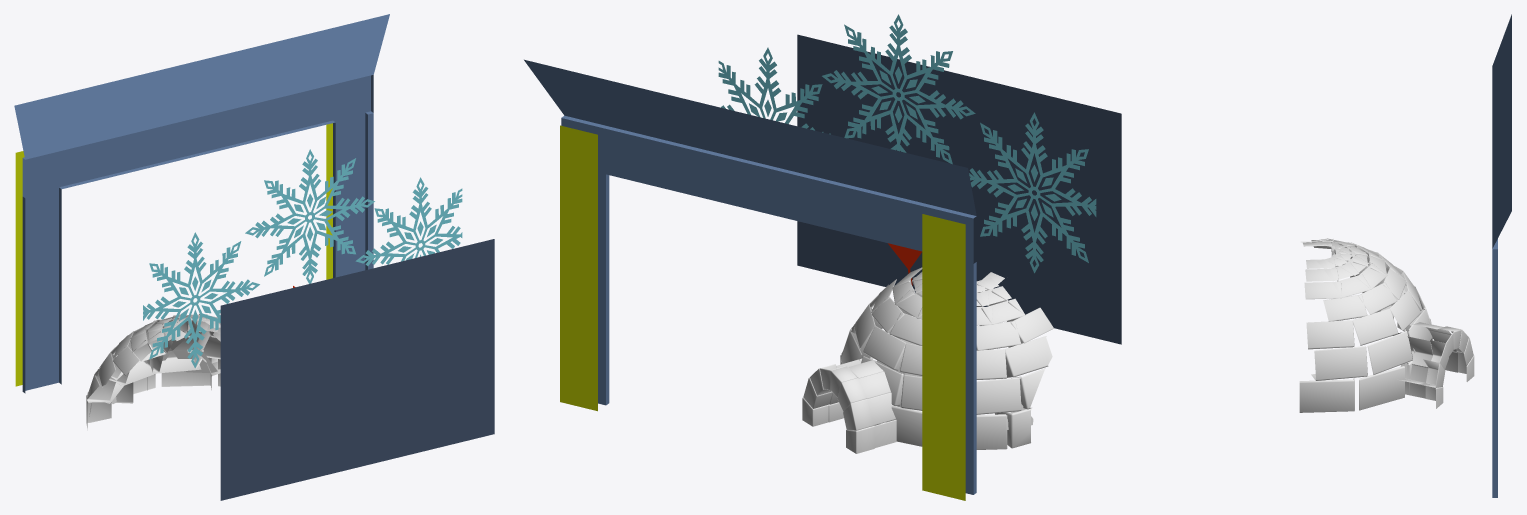
The model's file is frozen_building_top.fbx.
3 renders of one model, left to right at view 1: azimuth 30°, elevation 25°; view 2: azimuth 150°, elevation 25°; view 3: azimuth 270°, elevation 25°, orthographic. The views are drawn at different scales.
Visible parts, largest first — view 1: frozen_building_top; view 2: frozen_building_top; view 3: frozen_building_top.
Part boxes in pixels (box(x1,y1,x2,y2)): frozen_building_top: box(14, 14, 494, 500); frozen_building_top: box(524, 14, 1121, 500); frozen_building_top: box(1299, 14, 1511, 497).
Bounding box in the file's own units: 658 × 472 × 511.
